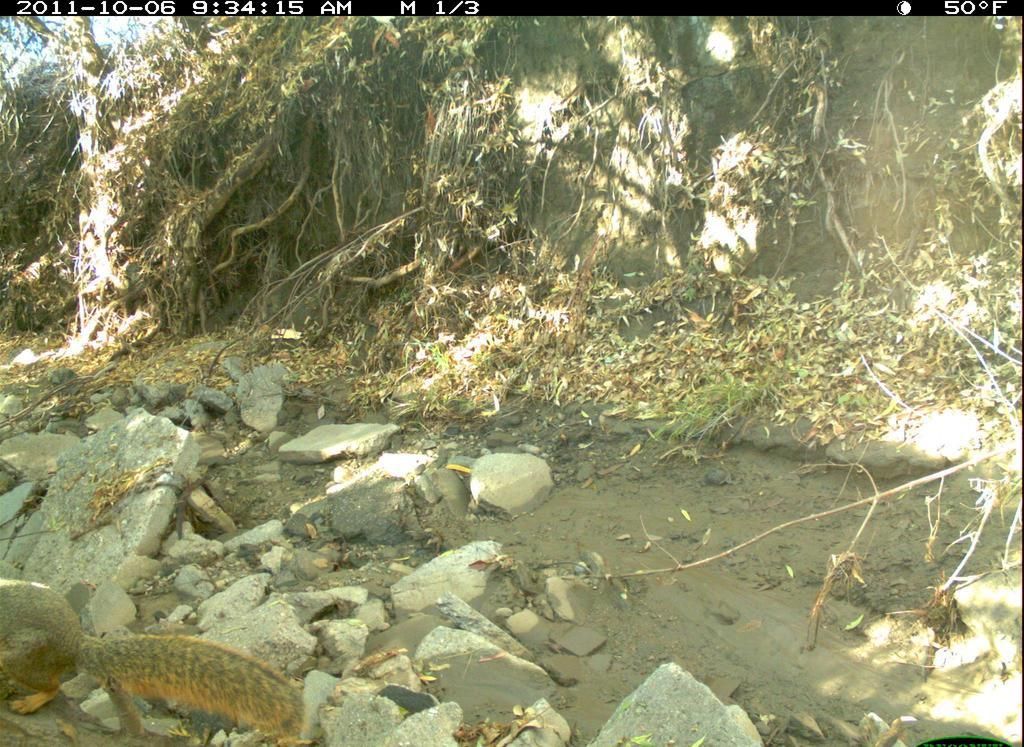squirrel: (1, 565, 313, 747)
